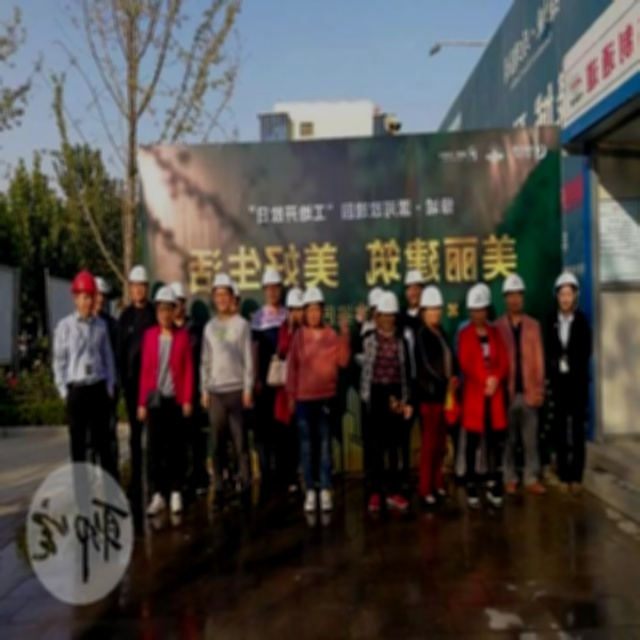Sin_Chaleco: (143, 324, 190, 407), (293, 323, 337, 403), (204, 313, 248, 390), (545, 309, 588, 371)
